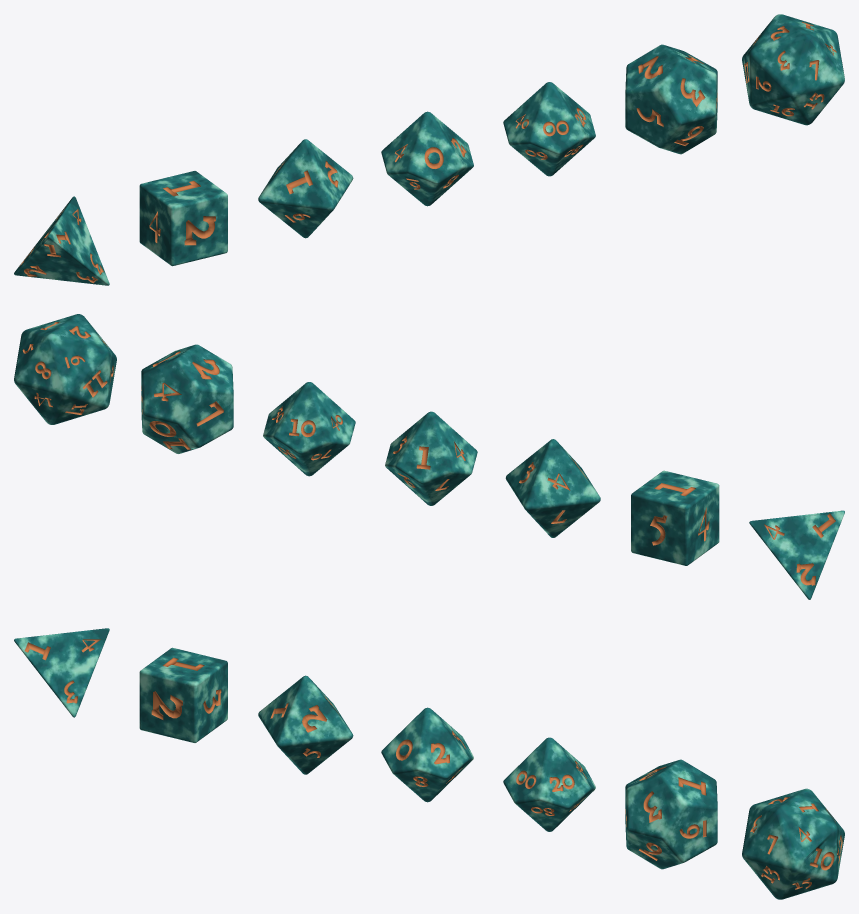
The model's file is teal.glb.
3 renders of one model, top to bottom at view 1: azimuth 30°, elevation 25°; view 2: azimuth 150°, elevation 25°; view 3: azimuth 330°, elevation 25°, orthographic.
Visible parts, largest first — view 1: d20, d12, d6, d100, d10, d8, d4; view 2: d20, d12, d6, d100, d10, d8, d4; view 3: d20, d12, d6, d8, d10, d100, d4.
Boxes of the visible parts, x1,y1,x2,y2 form: d20: (742, 14, 844, 125); d12: (625, 44, 717, 154); d6: (139, 171, 227, 266); d100: (503, 82, 595, 176); d10: (381, 111, 473, 206); d8: (258, 139, 353, 238); d4: (14, 196, 109, 285); d20: (14, 314, 116, 424); d12: (141, 344, 233, 453); d6: (631, 470, 719, 565); d100: (263, 382, 355, 476); d10: (385, 411, 477, 505); d8: (505, 439, 600, 537); d4: (749, 510, 844, 599); d20: (742, 788, 844, 899); d12: (625, 759, 717, 869); d6: (139, 647, 227, 742); d8: (258, 675, 353, 774); d10: (381, 707, 473, 802); d100: (503, 737, 595, 831); d4: (14, 628, 109, 717).
Size of the model in its own units: 21.14 by 2.47 by 2.47.
14 materials, 7 textured.
